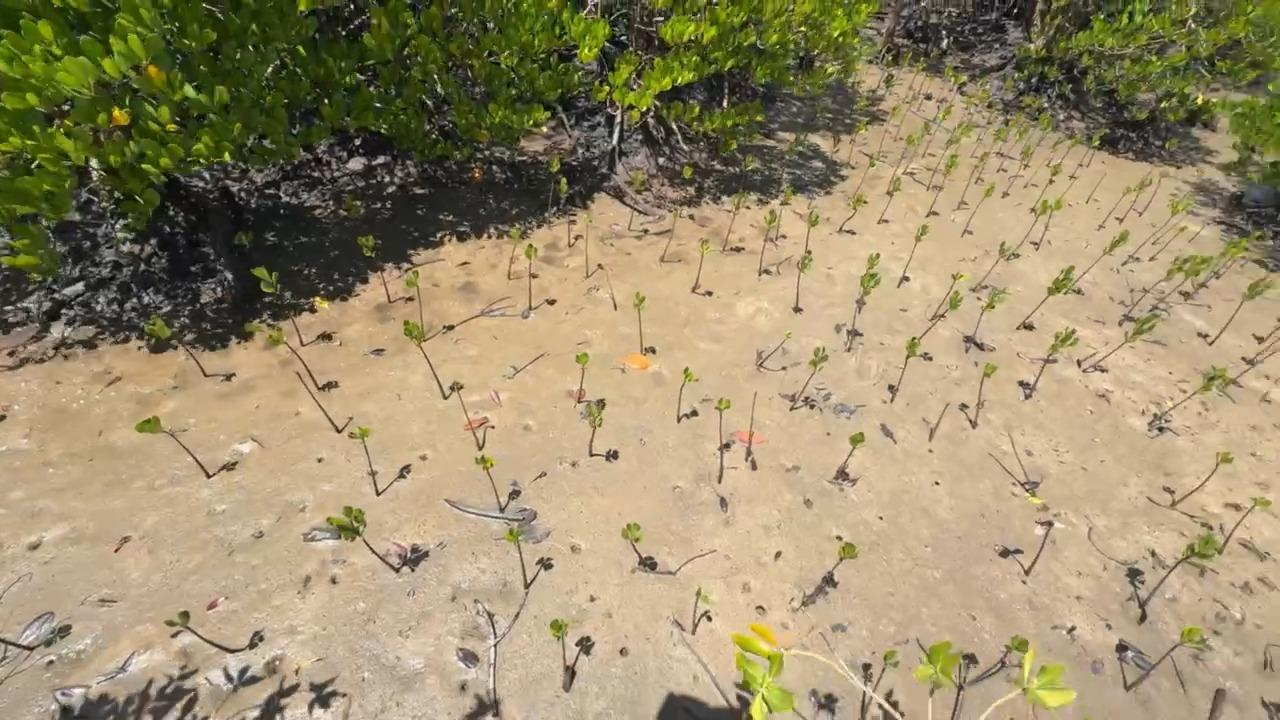Tree: (1138, 533, 1222, 609), (1125, 624, 1216, 692), (1120, 191, 1199, 267), (245, 322, 320, 390), (325, 505, 399, 573), (1081, 312, 1164, 372), (1208, 274, 1277, 346), (134, 415, 211, 479), (1148, 366, 1228, 426), (1125, 253, 1199, 316), (1064, 228, 1130, 295), (249, 264, 303, 345), (143, 314, 207, 378), (1025, 326, 1080, 400), (1016, 264, 1076, 330), (802, 540, 861, 607), (1147, 255, 1215, 312), (926, 117, 977, 191), (1169, 452, 1234, 508), (966, 633, 1030, 687), (1218, 496, 1272, 556), (402, 319, 444, 396), (163, 610, 235, 654), (1191, 237, 1242, 296), (860, 650, 901, 720), (295, 371, 341, 433), (847, 271, 882, 352), (1215, 230, 1270, 280), (1203, 236, 1252, 287), (790, 346, 829, 410), (356, 234, 391, 304), (918, 290, 965, 341), (449, 379, 482, 451), (885, 131, 922, 195), (347, 425, 380, 496), (971, 240, 1015, 293), (1023, 136, 1066, 189), (897, 222, 931, 289), (925, 151, 959, 218), (970, 286, 1009, 342), (973, 125, 1009, 184), (961, 180, 997, 238), (890, 336, 921, 403), (1013, 199, 1052, 252), (1222, 351, 1276, 388), (930, 271, 970, 319), (957, 151, 989, 211), (1007, 434, 1037, 497), (921, 104, 955, 159), (996, 120, 1031, 173), (902, 119, 935, 175), (1023, 118, 1058, 170), (1001, 141, 1032, 199), (474, 454, 504, 513), (945, 94, 978, 146), (1029, 163, 1063, 213), (1097, 185, 1133, 232), (504, 522, 529, 589), (1025, 520, 1055, 575), (1119, 177, 1153, 225), (1138, 168, 1170, 218), (1035, 196, 1064, 251), (857, 252, 882, 315), (973, 363, 997, 428), (1068, 134, 1101, 181), (834, 432, 866, 480), (1143, 138, 1180, 178), (714, 397, 731, 484), (1152, 209, 1193, 245), (549, 618, 570, 688), (893, 92, 922, 142), (723, 188, 746, 251), (1148, 225, 1188, 261), (405, 270, 425, 341), (1019, 112, 1050, 156), (986, 78, 1014, 125), (677, 366, 699, 424), (916, 47, 942, 96), (758, 209, 777, 276), (757, 330, 792, 366), (876, 176, 902, 224), (996, 111, 1022, 157), (976, 100, 1004, 142), (838, 193, 868, 232), (795, 249, 813, 313), (620, 522, 646, 566), (878, 103, 901, 152), (854, 152, 880, 195), (1014, 96, 1041, 136), (847, 117, 869, 166), (547, 153, 561, 229), (596, 263, 618, 311), (691, 586, 712, 636), (691, 238, 710, 293), (775, 186, 794, 241), (659, 209, 678, 262), (627, 170, 643, 231), (524, 243, 538, 311), (586, 401, 603, 457), (632, 291, 647, 354), (928, 402, 949, 442), (745, 391, 757, 461), (1248, 338, 1280, 364), (575, 351, 590, 404), (1058, 134, 1084, 164), (935, 64, 955, 103), (508, 227, 522, 280), (738, 154, 757, 193), (907, 57, 928, 91), (805, 209, 820, 255), (916, 76, 935, 112), (1085, 173, 1107, 204), (876, 56, 897, 88), (970, 90, 990, 121), (949, 73, 969, 104), (583, 211, 592, 278), (895, 48, 913, 81), (556, 176, 570, 217), (0, 638, 35, 652), (1133, 170, 1153, 192), (1061, 175, 1080, 197), (1188, 224, 1205, 244), (1262, 325, 1280, 343), (1240, 252, 1257, 268), (974, 77, 989, 94), (1086, 146, 1097, 169), (1046, 148, 1058, 167), (567, 207, 571, 248), (933, 105, 940, 121)
